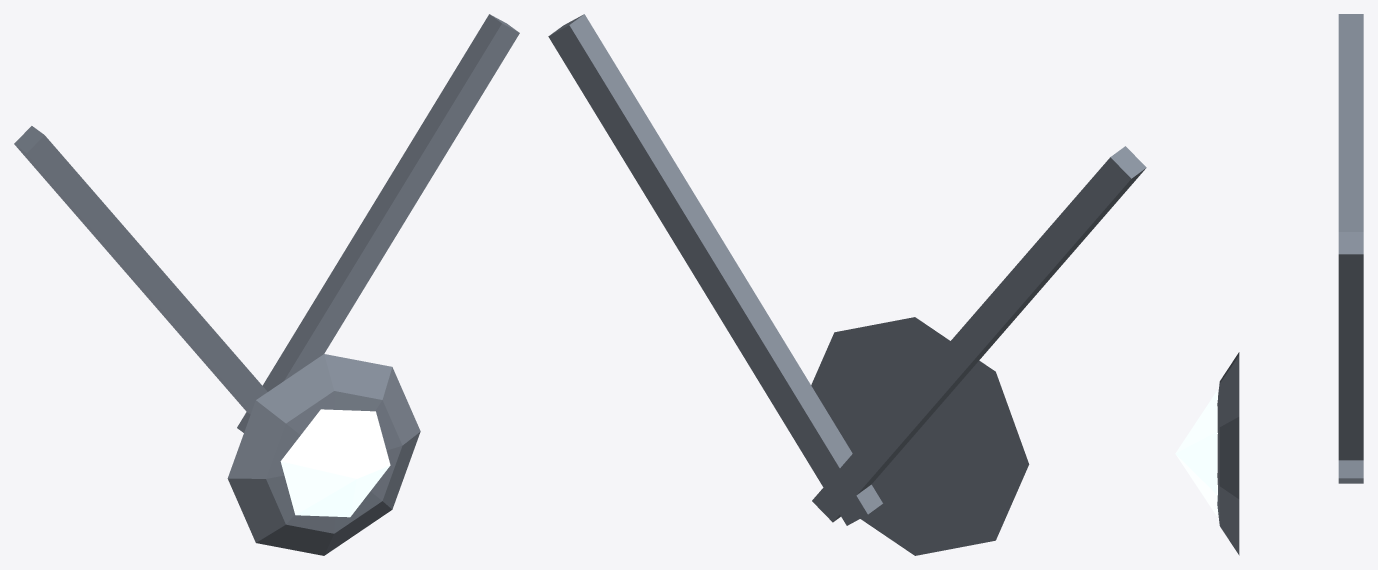
Rendered from armor_amulet_rare_orc.glb.
The picture shows the model from 3 angles, left to right: view 1: azimuth 30°, elevation 25°; view 2: azimuth 150°, elevation 25°; view 3: azimuth 270°, elevation 25°; orthographic projection. The views are drawn at different scales.
Visible parts, largest first — view 1: armor_amulet_rare_orc__spine_03; view 2: armor_amulet_rare_orc__spine_03; view 3: armor_amulet_rare_orc__spine_03.
Boxes of the visible parts, x1,y1,x2,y2 form: armor_amulet_rare_orc__spine_03: (14,14,519,555); armor_amulet_rare_orc__spine_03: (548,14,1146,555); armor_amulet_rare_orc__spine_03: (1175,14,1363,555).
Bounding box in the file's own units: 19.92 × 16.97 × 6.75.
